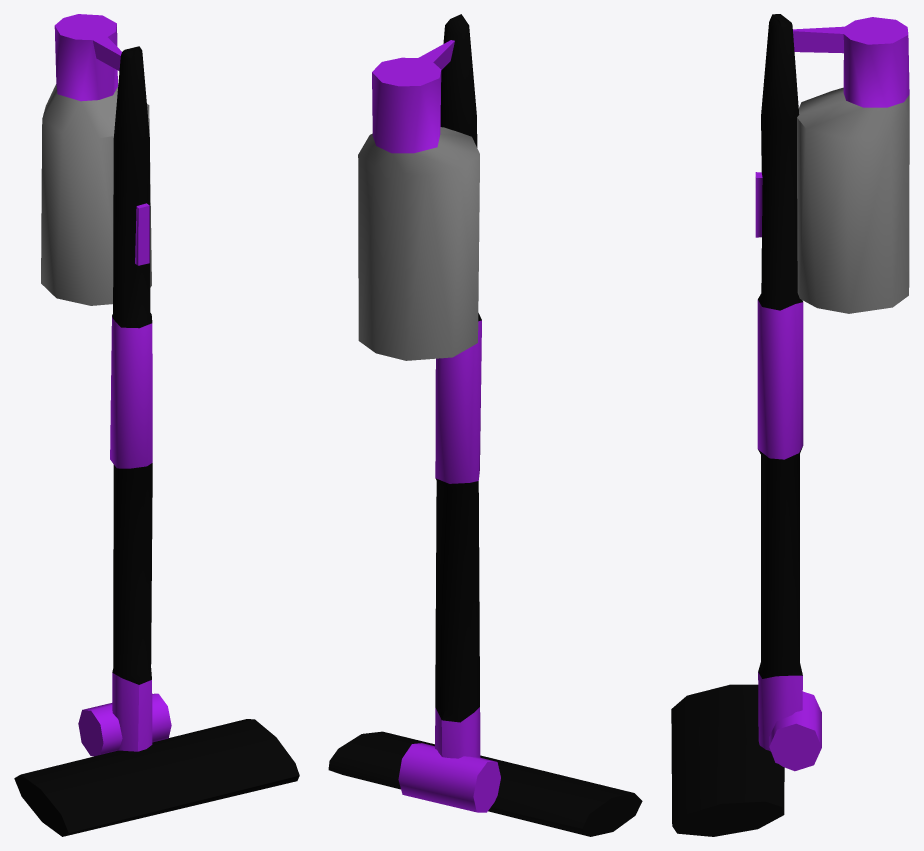
File: Vacuum.fbx
The picture shows the model from 3 angles, left to right: view 1: azimuth 30°, elevation 25°; view 2: azimuth 150°, elevation 25°; view 3: azimuth 270°, elevation 25°; orthographic projection. The views are drawn at different scales.
Visible parts, largest first — view 1: Cylinder.004; view 2: Cylinder.004; view 3: Cylinder.004.
Part boxes in pixels (<box>): Cylinder.004: <box>14,14,299,836</box>; Cylinder.004: <box>328,14,642,836</box>; Cylinder.004: <box>671,14,909,836</box>.
Bounding box in the file's own units: 309 × 933 × 264.
